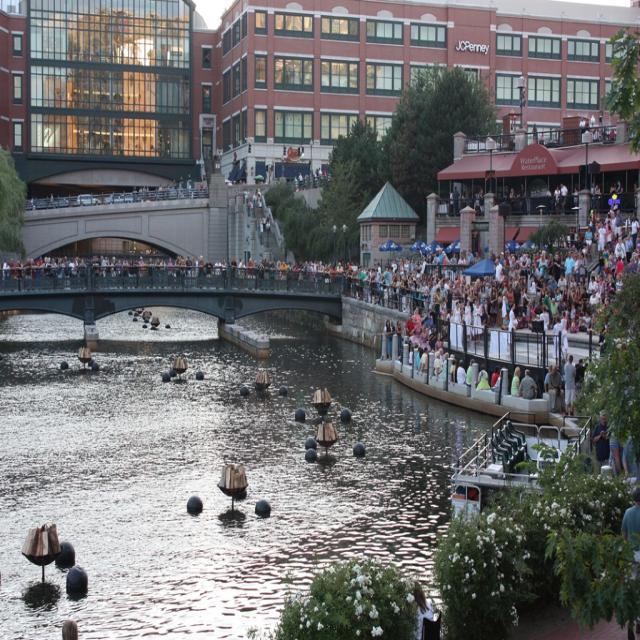body: (2, 165, 639, 338), (457, 108, 637, 152), (620, 483, 640, 638), (608, 417, 640, 476), (413, 578, 435, 640), (591, 408, 611, 475), (402, 338, 448, 364), (547, 364, 567, 413), (516, 368, 538, 412), (563, 353, 577, 417), (558, 356, 590, 381), (457, 482, 482, 512), (507, 301, 519, 354), (472, 296, 482, 345), (474, 362, 490, 390), (552, 315, 562, 359), (416, 346, 429, 376), (384, 318, 393, 361), (510, 366, 522, 398), (493, 367, 508, 392), (463, 298, 472, 338), (432, 350, 443, 382), (465, 358, 476, 389), (395, 318, 403, 360), (560, 310, 568, 352), (544, 364, 554, 396), (457, 359, 468, 385), (449, 359, 457, 387), (491, 365, 500, 388)
